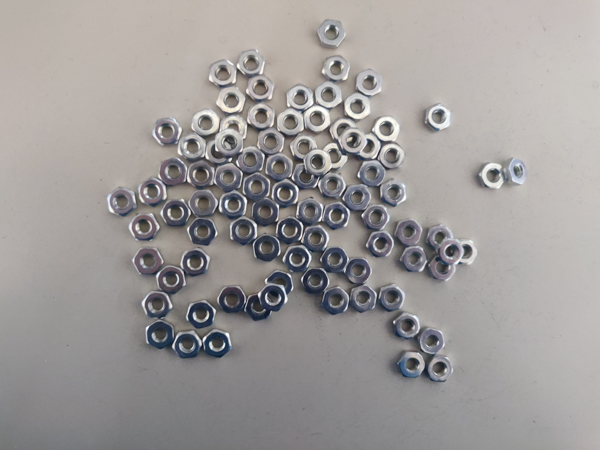nut: (107, 187, 137, 217), (202, 330, 233, 359), (156, 265, 187, 294), (181, 248, 211, 277), (152, 118, 183, 146), (238, 49, 267, 78), (174, 331, 202, 361), (215, 162, 243, 192), (220, 190, 248, 220), (252, 197, 280, 227), (272, 178, 300, 208), (216, 87, 246, 115), (129, 214, 160, 241), (133, 249, 165, 275), (187, 300, 216, 328), (259, 283, 287, 312), (139, 178, 167, 207), (159, 158, 188, 186), (317, 20, 346, 48), (187, 161, 215, 190), (178, 133, 207, 161), (161, 199, 191, 226), (188, 219, 218, 246), (189, 190, 219, 217), (230, 216, 257, 246), (244, 172, 271, 202), (142, 292, 173, 318), (146, 321, 174, 349), (216, 129, 244, 157), (247, 74, 275, 102), (323, 286, 350, 315), (218, 286, 247, 313), (277, 216, 304, 245), (254, 233, 281, 262), (304, 104, 331, 133), (237, 146, 266, 173), (248, 102, 275, 131), (323, 203, 351, 230), (297, 197, 324, 225), (316, 81, 343, 109), (192, 109, 220, 136), (381, 178, 407, 207), (283, 246, 312, 272), (396, 219, 423, 246), (287, 83, 314, 110), (277, 109, 304, 136), (266, 153, 293, 180), (393, 313, 421, 339), (427, 224, 455, 250), (358, 160, 386, 186), (304, 149, 332, 175), (322, 55, 350, 81), (209, 60, 237, 86), (339, 128, 368, 153), (190, 191, 219, 216), (426, 104, 452, 131), (379, 285, 405, 312), (351, 286, 377, 313), (367, 231, 394, 257), (356, 69, 383, 95), (344, 93, 370, 120), (245, 295, 272, 321), (258, 128, 285, 154), (401, 246, 429, 271), (321, 247, 349, 272), (302, 268, 330, 293), (318, 173, 346, 198), (344, 184, 371, 209), (266, 270, 293, 295), (323, 142, 348, 169), (330, 117, 357, 142), (293, 164, 320, 189), (221, 115, 248, 140), (362, 205, 390, 229), (302, 227, 330, 251), (428, 356, 453, 382), (375, 116, 401, 141), (399, 353, 426, 377), (345, 259, 372, 283), (506, 157, 528, 186), (440, 240, 465, 265), (380, 143, 405, 168), (291, 135, 317, 159), (206, 140, 233, 163), (420, 329, 444, 354), (432, 256, 456, 281), (481, 163, 504, 188), (461, 240, 478, 265), (362, 134, 379, 158)
